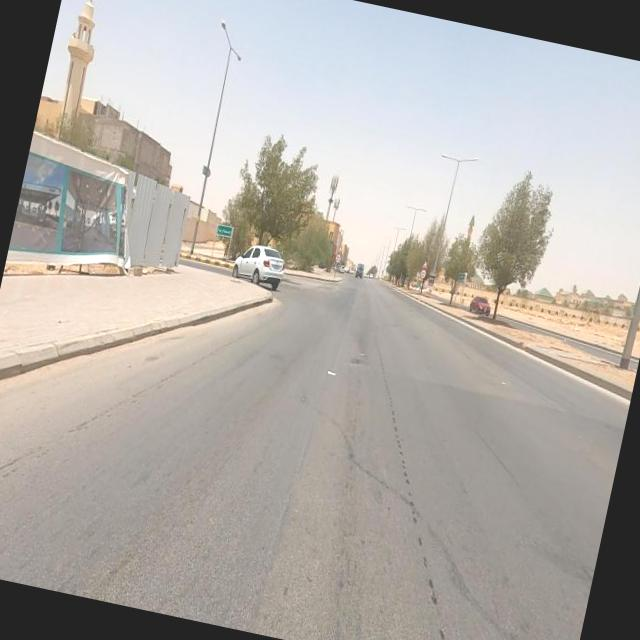debris: (302, 332, 364, 408)
